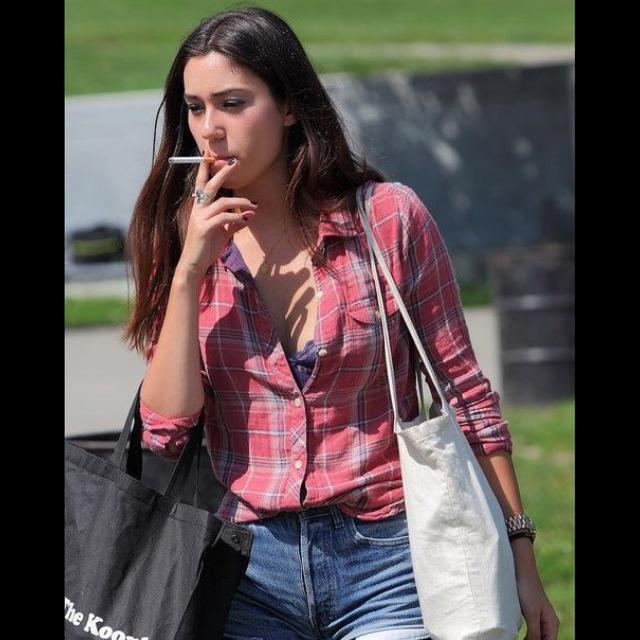rokok: (166, 150, 224, 170)
